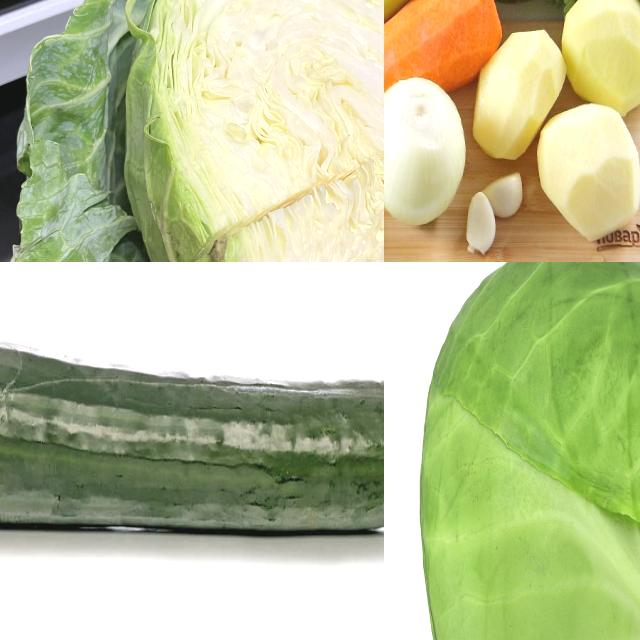cabbage: (1, 1, 385, 263), (415, 263, 640, 640)
carrot: (406, 1, 494, 78)
cucumber: (1, 337, 385, 540)
garlic: (464, 176, 526, 258)
onion: (385, 85, 460, 214)
potato: (546, 114, 637, 230), (481, 25, 553, 159), (571, 1, 640, 114)
